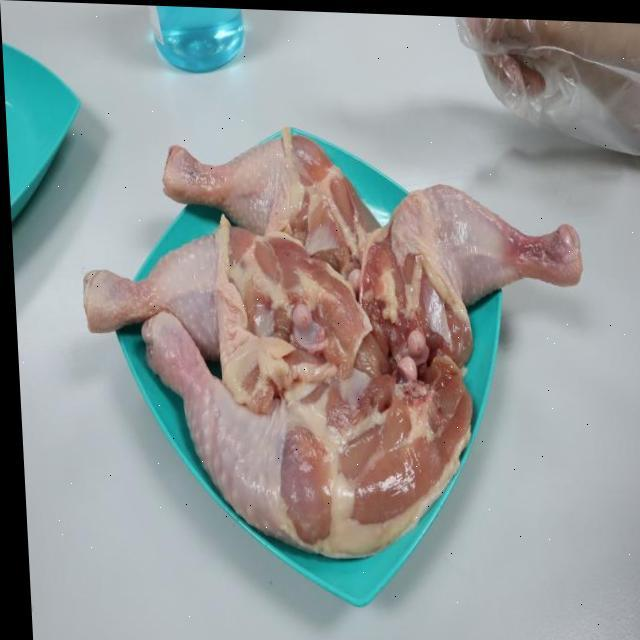quater: (135, 310, 468, 559), (360, 180, 597, 356), (71, 224, 352, 363), (128, 121, 374, 263)
